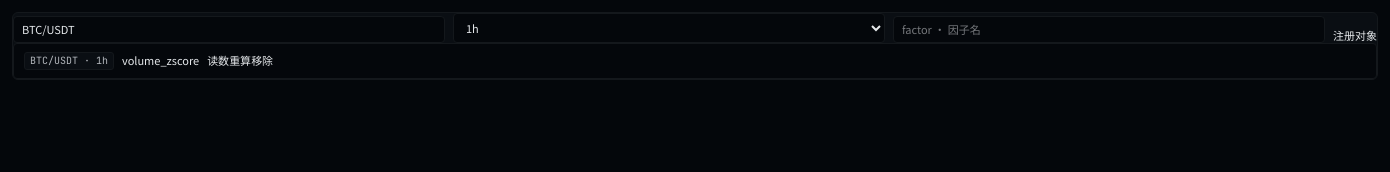
Test: 监控 tab B4 四元组读数 › 列表渲染 B4 对象;点读数 → monitorRead 返回新鲜值显示 + 新鲜徽章
Expected: the element with test id "mon-row-0" is shown, [13, 43, 1377, 79]
Expected: the text "BTC/USDT · 1h" is shown, [24, 52, 114, 70]
Click the button with test id "mon-read-0". click: (218, 61)
box: [207, 53, 229, 69]
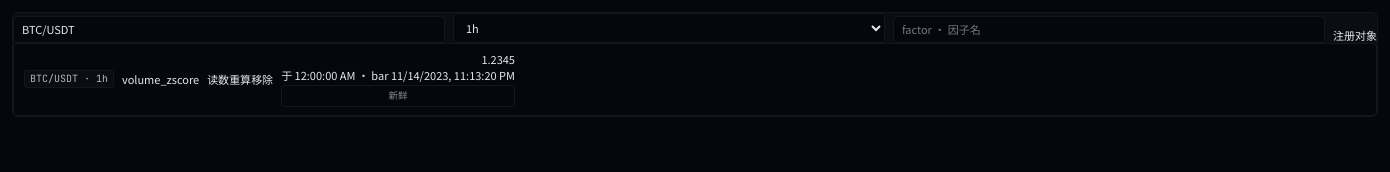
Expected: the element with test id "mon-reading-0" is shown, [281, 52, 515, 107]
Expected: the element with test id "mon-reading-0" shows "1.2345", [481, 51, 515, 67]
Expected: the element with test id "mon-reading-0" shows "新鲜", [388, 88, 408, 102]
